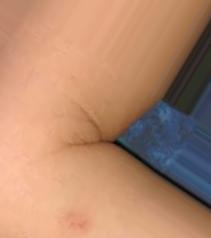Spider: (44, 208, 93, 237)
